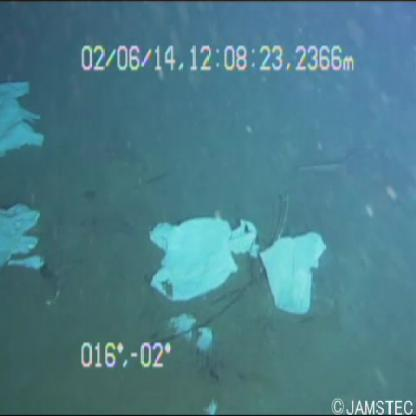Rác: (140, 198, 260, 302), (260, 224, 332, 318), (1, 72, 47, 162), (1, 193, 46, 278)
